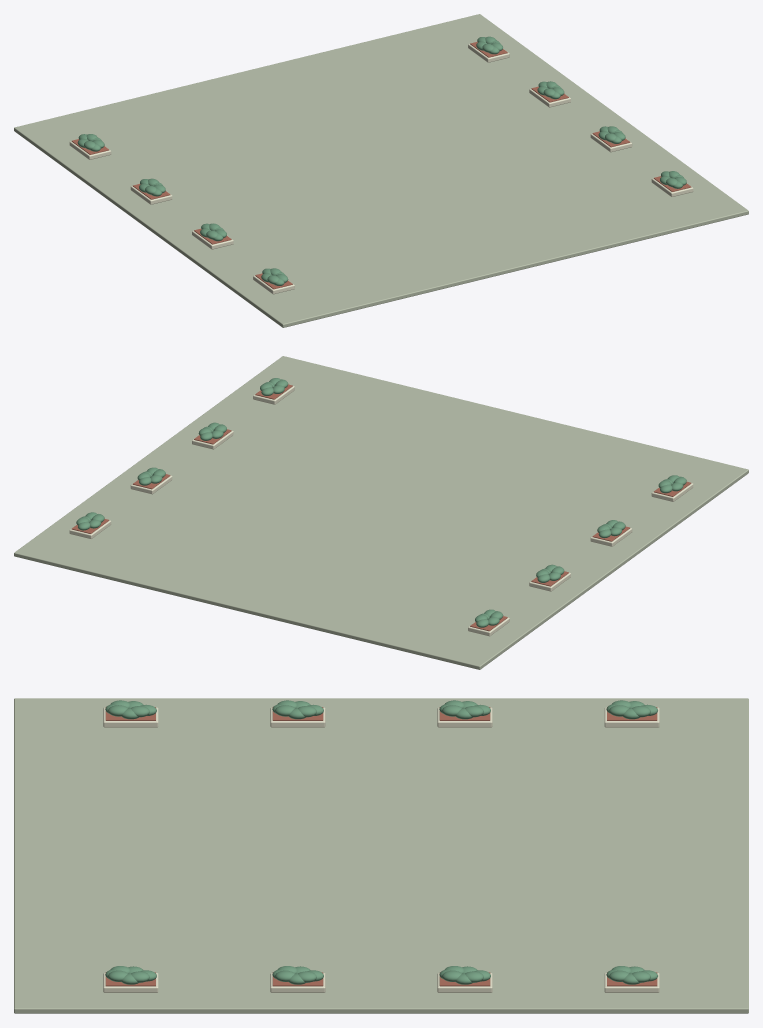
Rendered from enchanted-harp-garden-and-music-sanctuary-sanctuary-ga-30232571__30440.glb.
3 renders of one model, top to bottom at view 1: azimuth 30°, elevation 25°; view 2: azimuth 150°, elevation 25°; view 3: azimuth 270°, elevation 25°, orthographic. The views are drawn at different scales.
Visible parts, largest first — view 1: sanctuary-garden-base; view 2: sanctuary-garden-base; view 3: sanctuary-garden-base.
Part boxes in pixels (box(x1,y1,x2,y2)): sanctuary-garden-base: box(14, 14, 748, 327); sanctuary-garden-base: box(14, 356, 748, 669); sanctuary-garden-base: box(14, 698, 748, 1013).
Size of the model in its own units: 22 by 0.7202 by 22.
